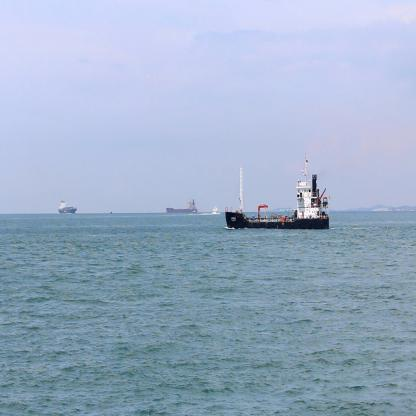Container Ship: (223, 152, 331, 232), (166, 195, 199, 217), (57, 196, 78, 214)
